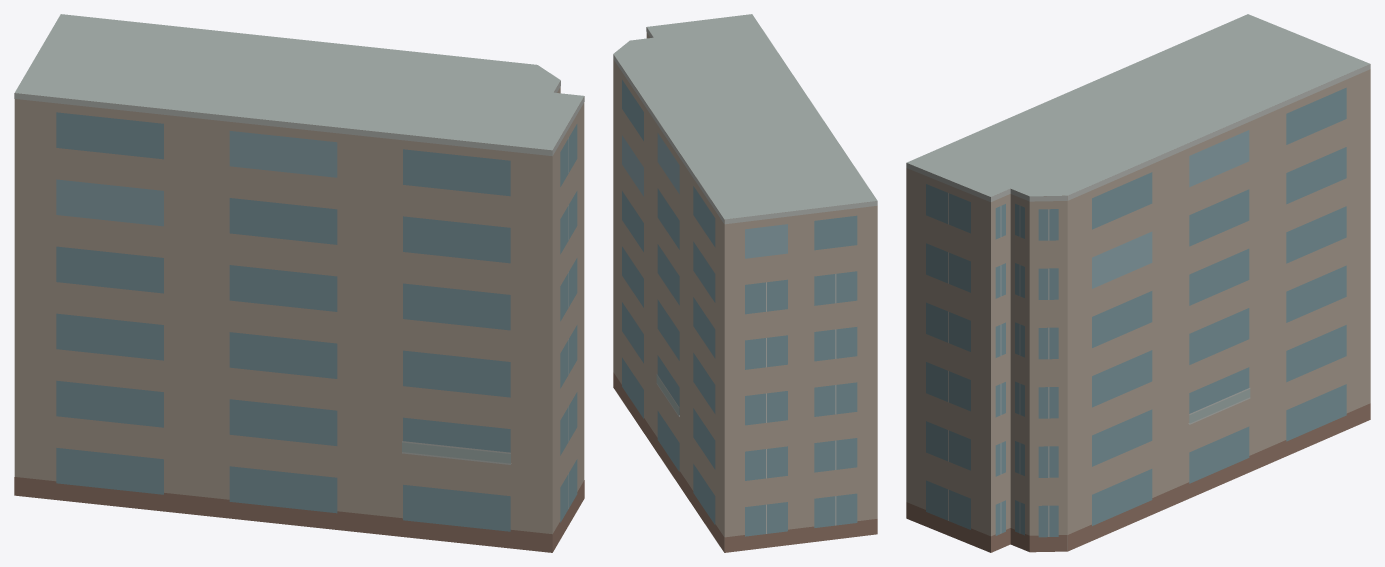
File: survey-upis-32663886.glb
The picture shows the model from 3 angles, left to right: view 1: azimuth 30°, elevation 25°; view 2: azimuth 150°, elevation 25°; view 3: azimuth 270°, elevation 25°; orthographic projection. The views are drawn at different scales.
Parts seen in each view (by area): view 1: survey-upis-32663886.tmp; view 2: survey-upis-32663886.tmp; view 3: survey-upis-32663886.tmp.
Part boxes in pixels (<box>): survey-upis-32663886.tmp: <box>14,14,584,552</box>; survey-upis-32663886.tmp: <box>613,14,877,552</box>; survey-upis-32663886.tmp: <box>906,14,1370,552</box>.
Size of the model in its own units: 18.44 by 16.7 by 19.75.
